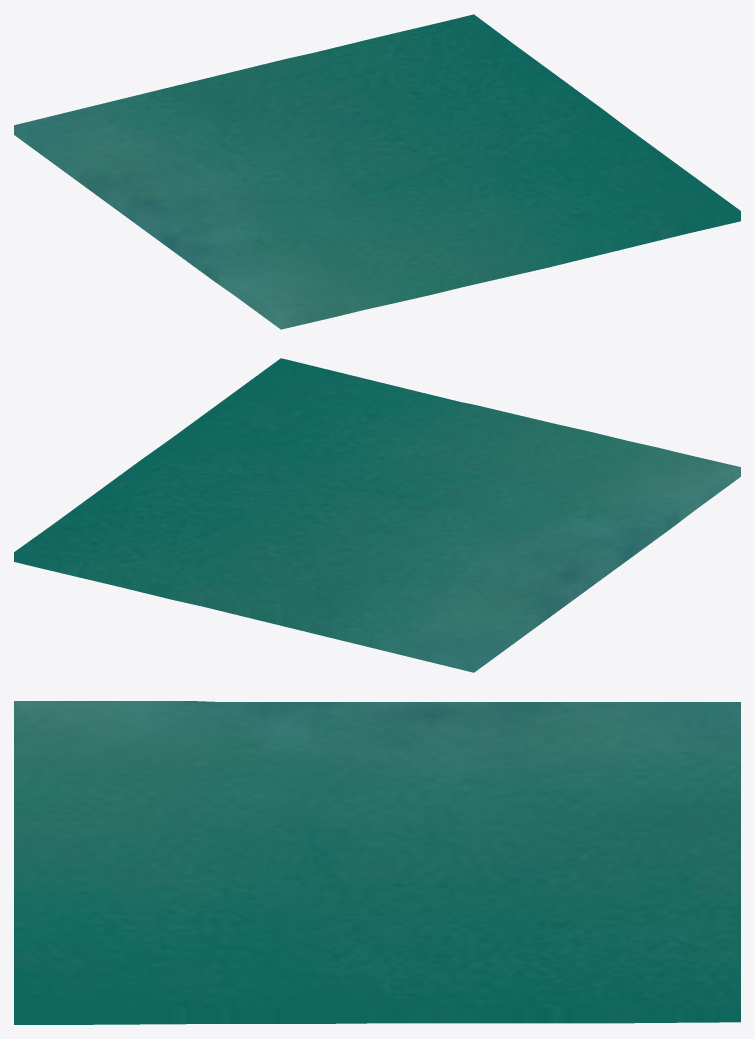
Rendered from z20-167557-405169-h0-yup-uvflip-v3-world.glb.
3 renders of one model, top to bottom at view 1: azimuth 30°, elevation 25°; view 2: azimuth 150°, elevation 25°; view 3: azimuth 270°, elevation 25°, orthographic. The views are drawn at different scales.
Size of the model in its own units: 30.16 by 0.84 by 30.32.
Materials: 1 (1 with a texture image).
